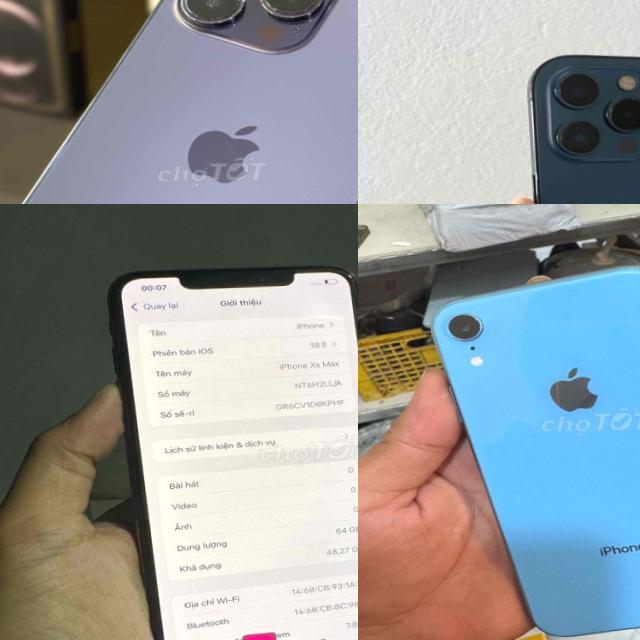gen_12_13: (524, 41, 640, 204)
gen_14: (0, 0, 358, 204)
gen_x_xs: (91, 249, 358, 640), (413, 257, 640, 640)
